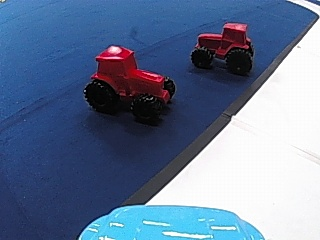Tracktor: (79, 43, 180, 122), (189, 19, 255, 73)
